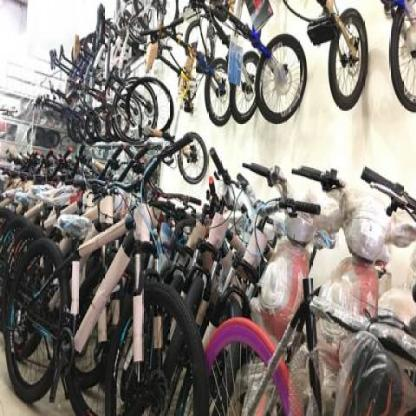Bike: (6, 125, 212, 414)
